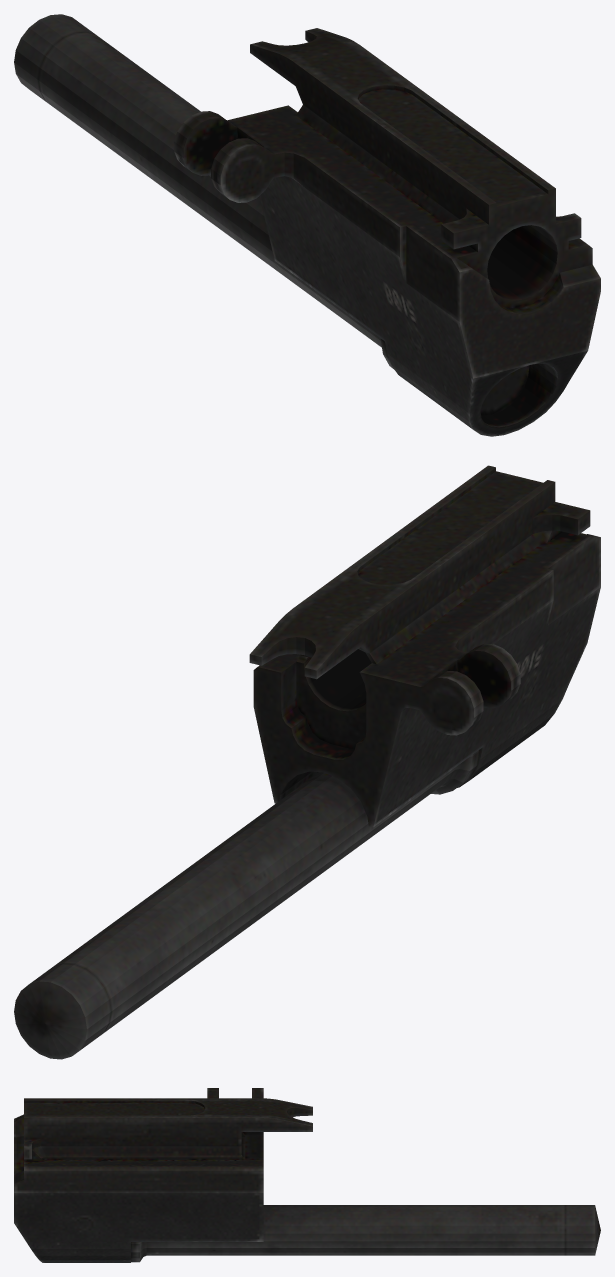
3 renders of one model, top to bottom at view 1: azimuth 30°, elevation 25°; view 2: azimuth 150°, elevation 25°; view 3: azimuth 270°, elevation 25°, orthographic. The views are drawn at different scales.
Parts seen in each view (by area): view 1: TW_62e14904c2699c0ec93adc47_PZ_Import; view 2: TW_62e14904c2699c0ec93adc47_PZ_Import; view 3: TW_62e14904c2699c0ec93adc47_PZ_Import.
Part boxes in pixels (box(x1,y1,x2,y2)): TW_62e14904c2699c0ec93adc47_PZ_Import: box(14, 14, 600, 436); TW_62e14904c2699c0ec93adc47_PZ_Import: box(14, 465, 600, 1059); TW_62e14904c2699c0ec93adc47_PZ_Import: box(14, 1088, 600, 1262).
Size of the model in its own units: 0.0188 by 0.0716 by 0.0205.
1 material, 1 textured.
